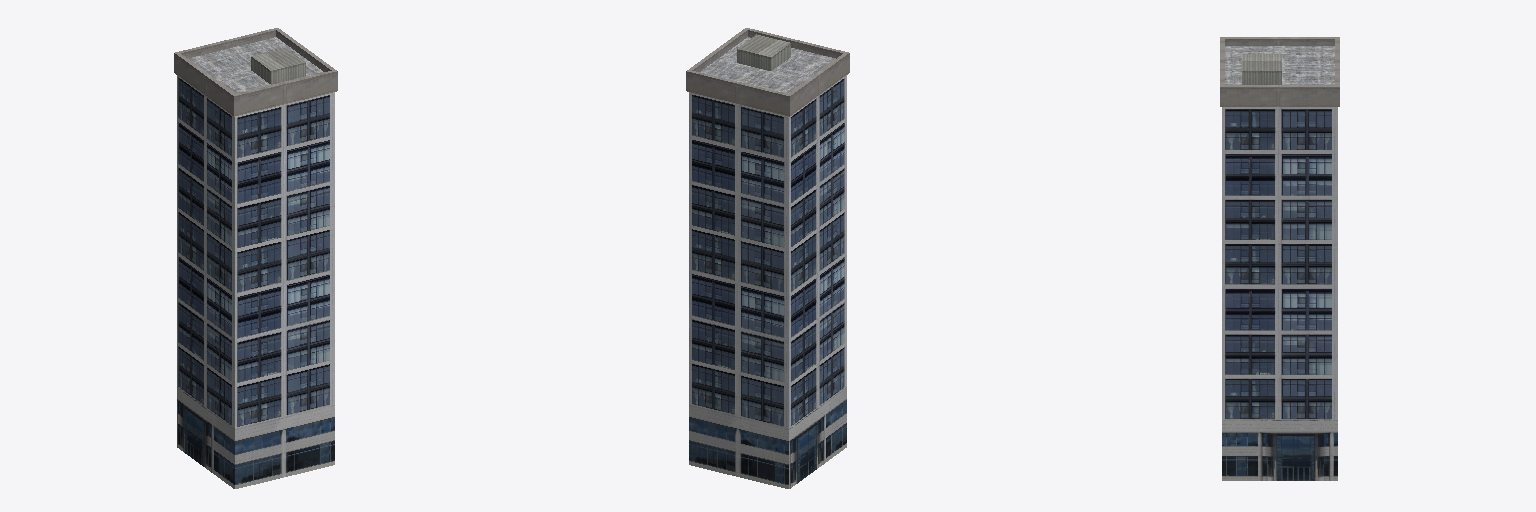
The picture shows the model from 3 angles: view 1: azimuth 30°, elevation 25°; view 2: azimuth 150°, elevation 25°; view 3: azimuth 270°, elevation 25°; orthographic projection.
Visible parts, largest first — view 1: building_13; view 2: building_13; view 3: building_13.
Boxes of the visible parts, box(x1,y1,x2,y2) form: building_13: box(174, 28, 337, 488); building_13: box(686, 28, 849, 488); building_13: box(1220, 37, 1339, 480).
Size of the model in its own units: 52.9 by 195 by 52.88.
Materials: 1 (1 with a texture image).